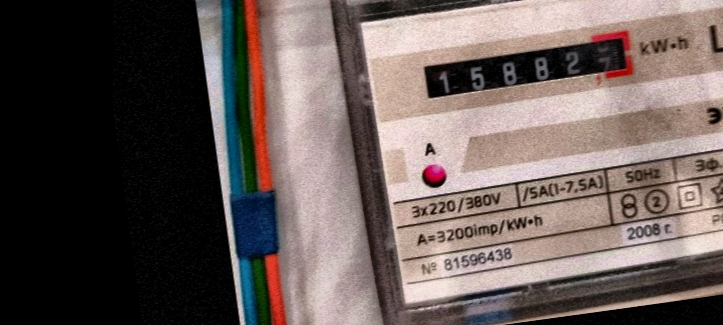1: (436, 66, 453, 97)
2: (562, 49, 583, 77)
5: (467, 63, 488, 95)
7: (596, 54, 611, 73)
8: (499, 59, 519, 89), (532, 54, 551, 84)
screen: (410, 22, 642, 113)
